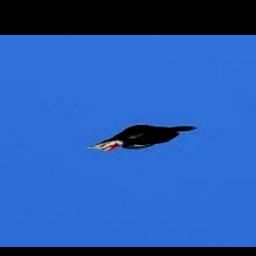Woodpecker: (87, 125, 196, 153)
